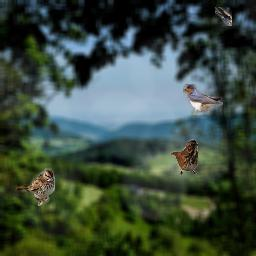Sparrow: (15, 168, 55, 206), (170, 139, 198, 175)
Swallow: (183, 84, 223, 115), (215, 7, 232, 26)
